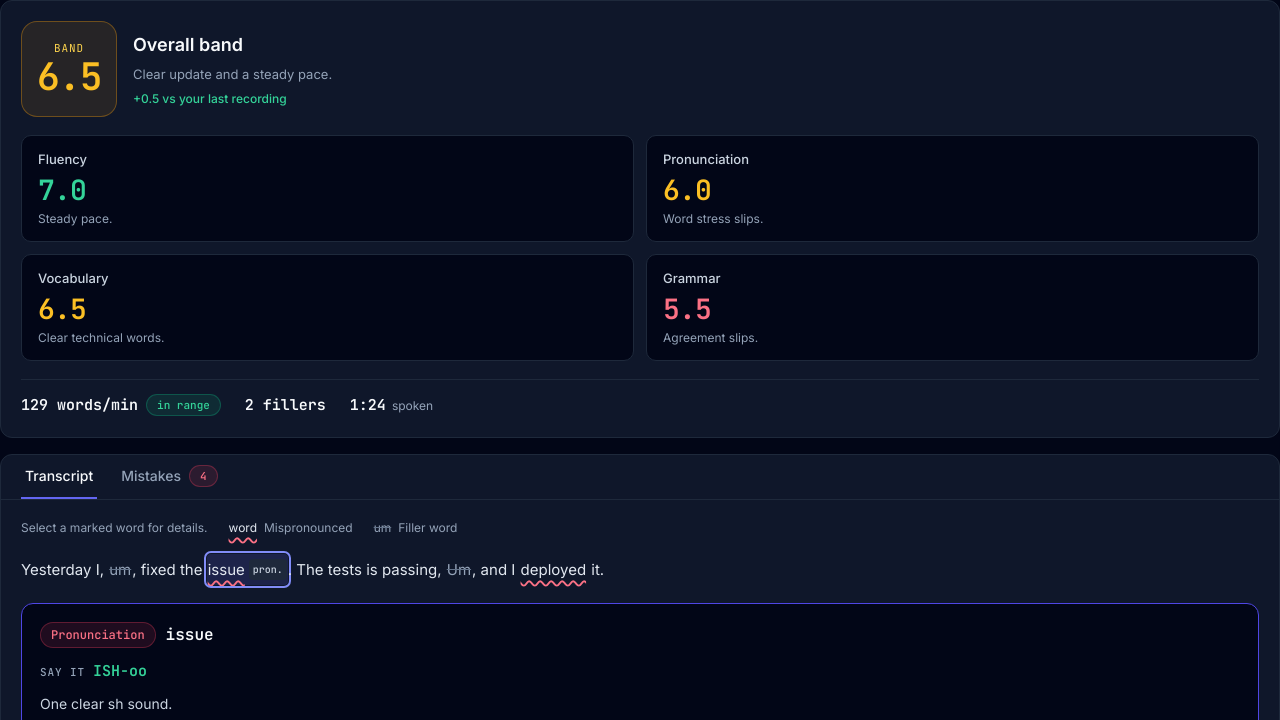
Scenario: GradingPanel transcript tab › shows how often a filler was used, ignoring case
The image size is (1280, 720).
Click the button with aria-label "Filler: um".
click(120, 569)  # box [108, 554, 132, 585]
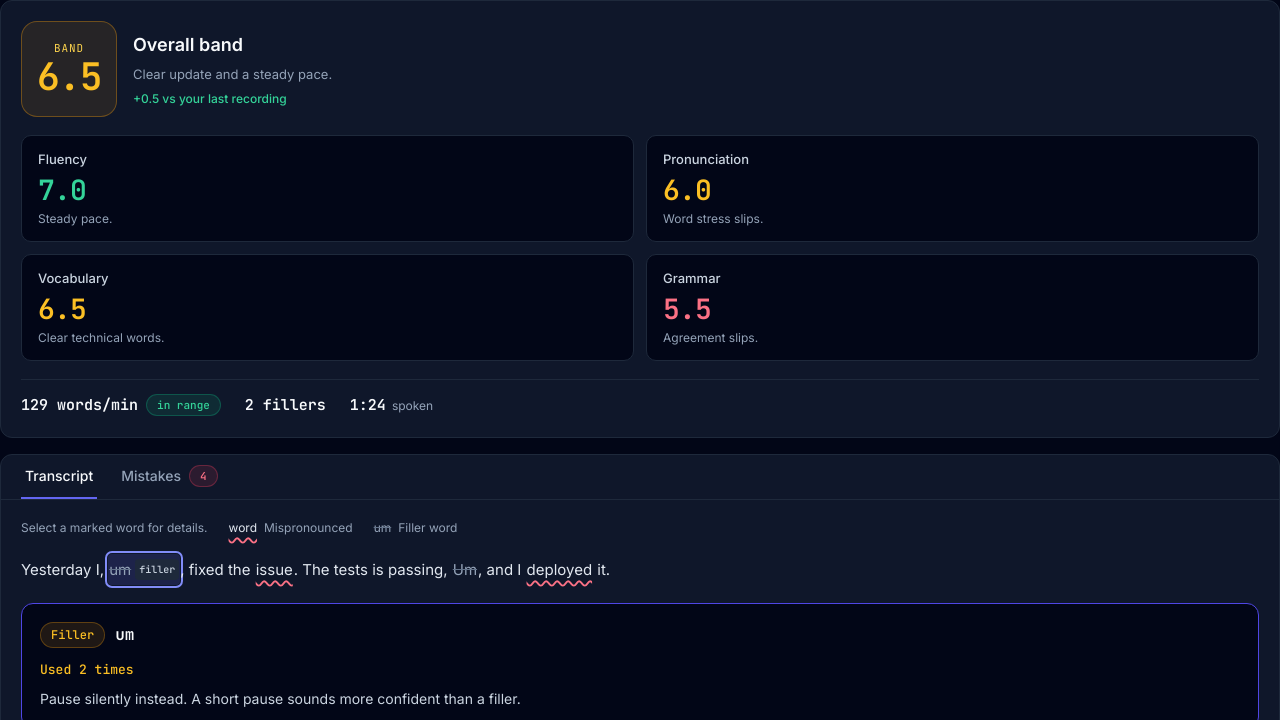
Expected: the text "Used 2 times" is shown, [40, 661, 134, 678]
Expected: the text "Pause silently instead. A short pause sounds more confident than a filler." is shown, [40, 690, 521, 707]
